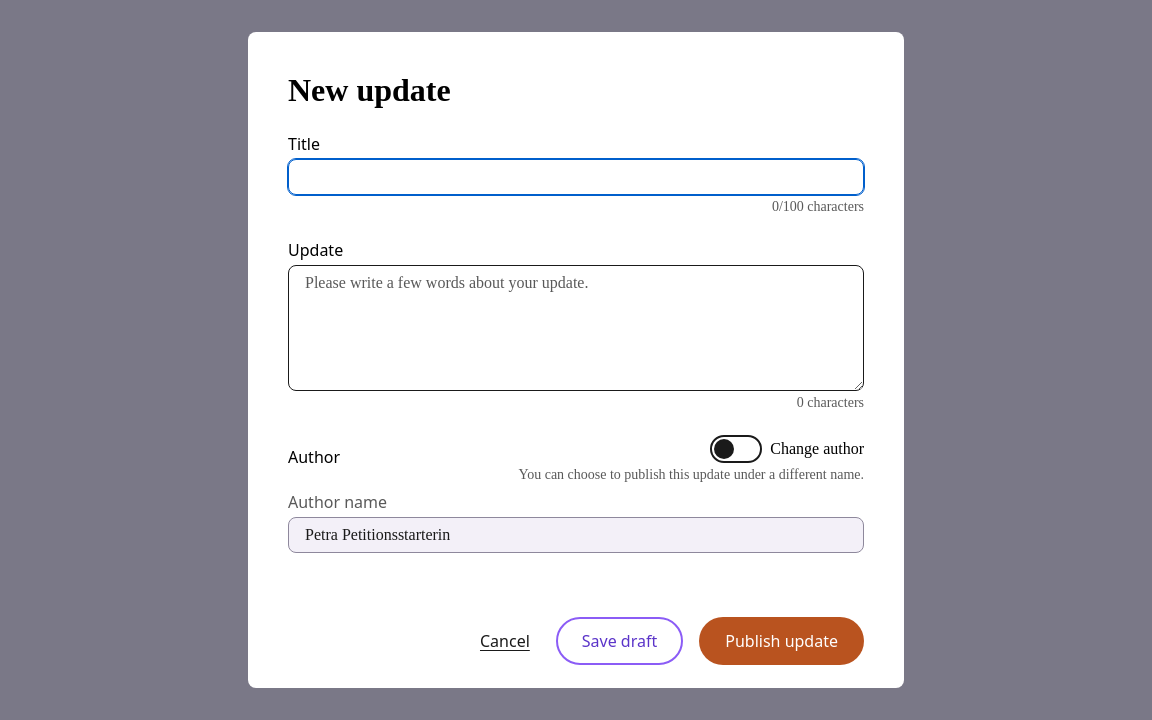
it: UpdateDialog › saves the draft to Local Storage and shows a success message
The image size is (1152, 720).
Type "Release notes" into the field labelled "Title" at {"x": 576, "y": 177}, box [288, 159, 864, 195]
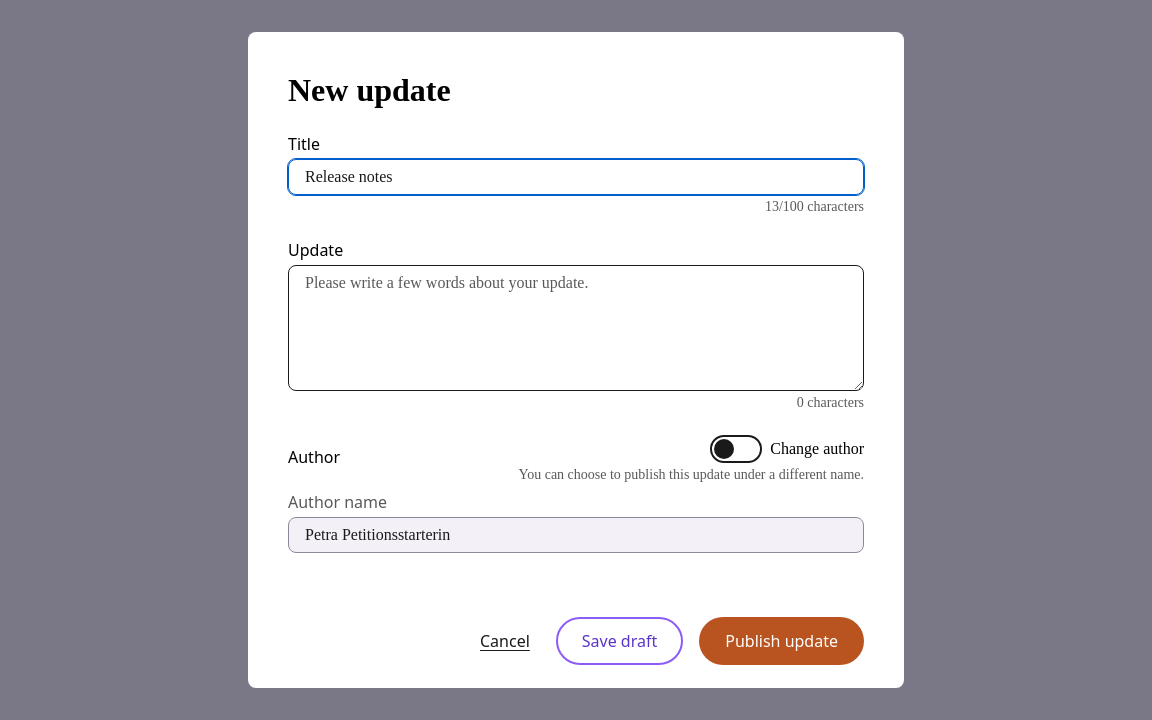
Type "Version 2 is out." into the text box labelled "Update" at {"x": 576, "y": 328}, box [288, 265, 864, 391]
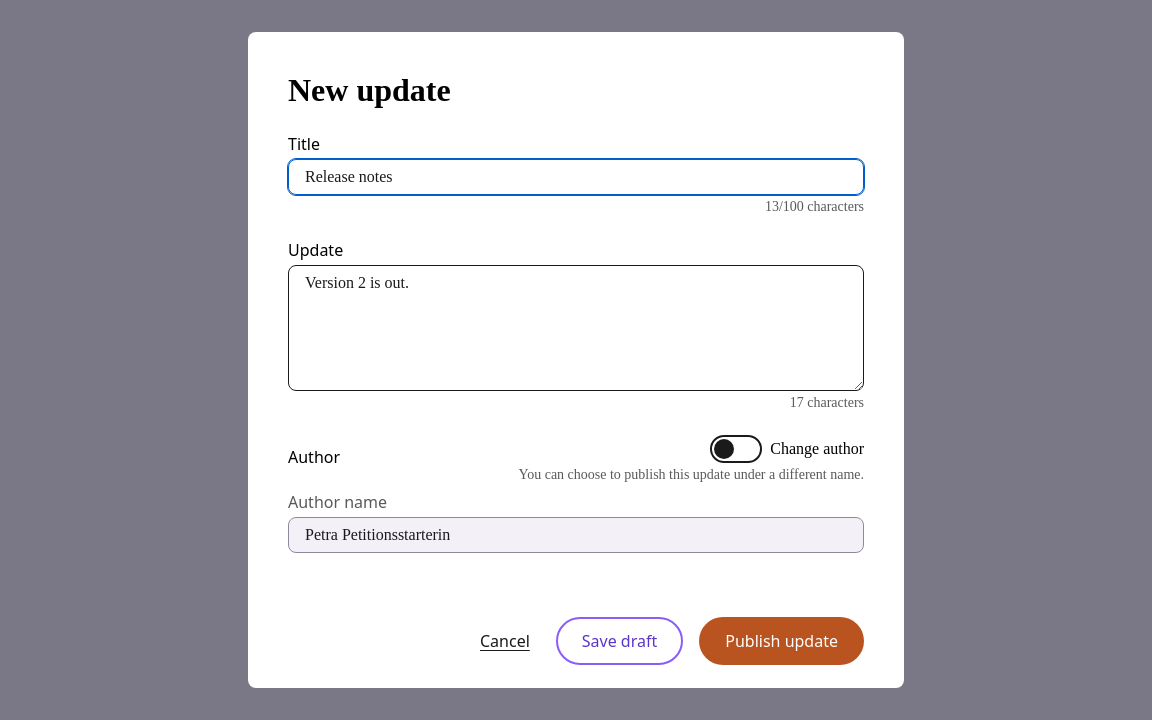
Click the switch labelled "Change author" at {"x": 736, "y": 449}, box [710, 435, 762, 463]
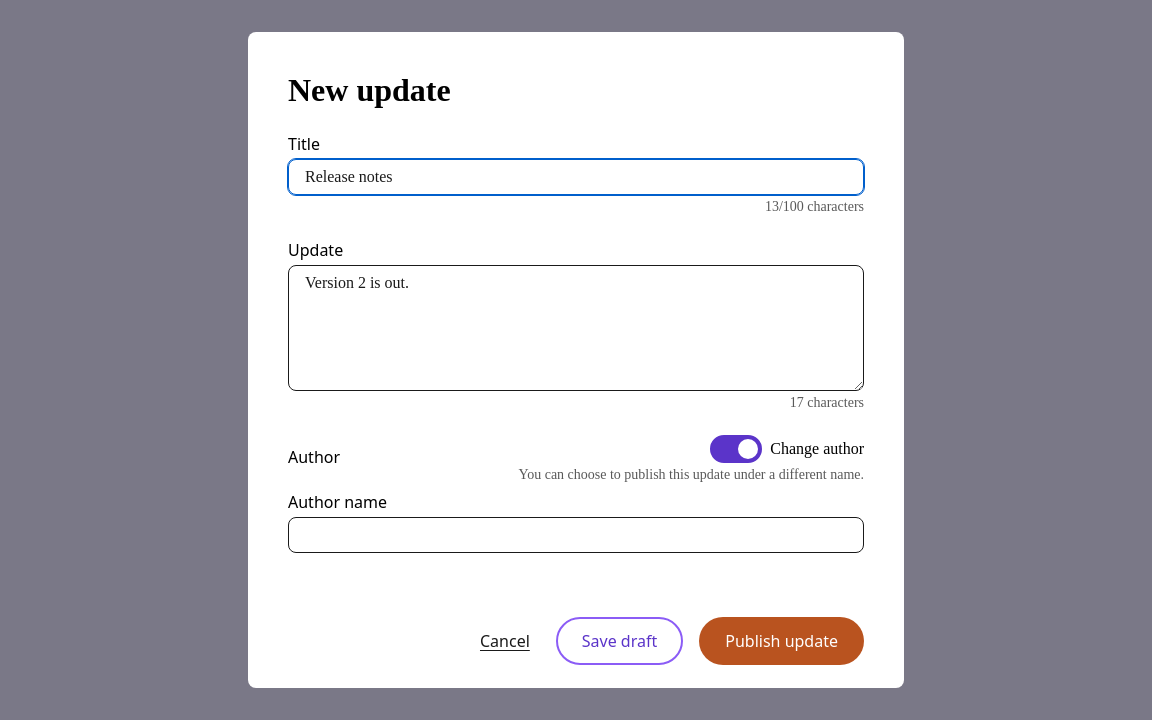
Type "Sam" into the field labelled "Author name" at {"x": 576, "y": 535}, box [288, 517, 864, 553]
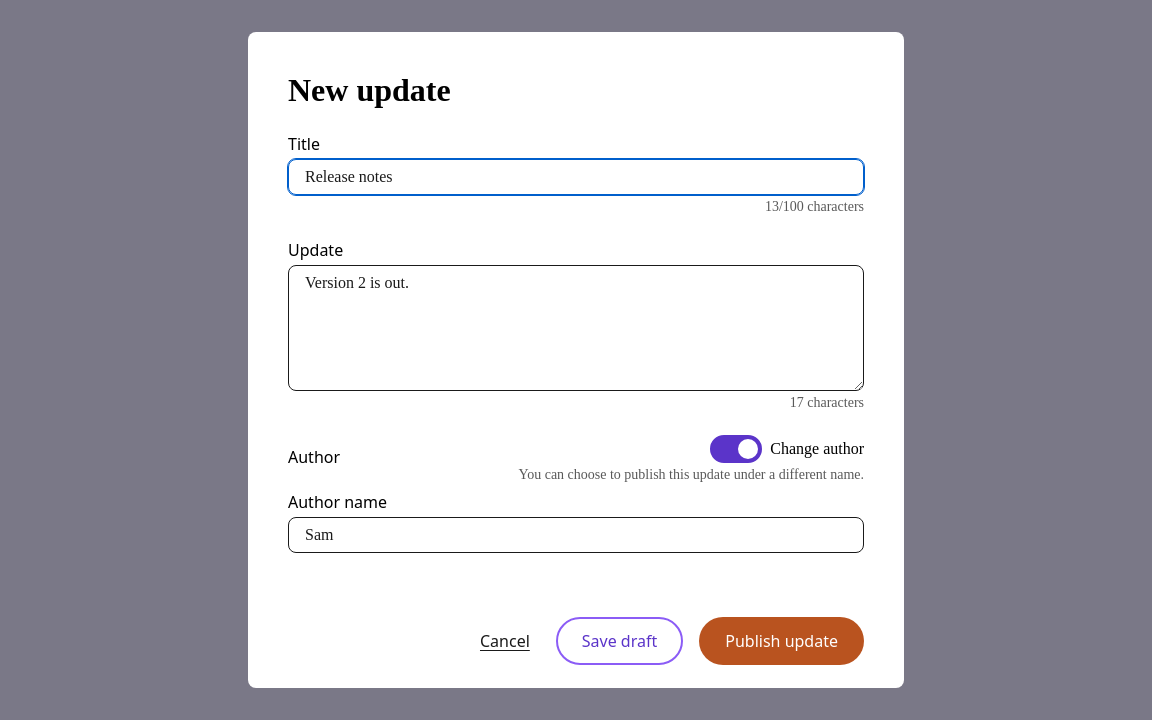
Click the button "Save draft" at {"x": 620, "y": 641}, box [556, 617, 683, 665]
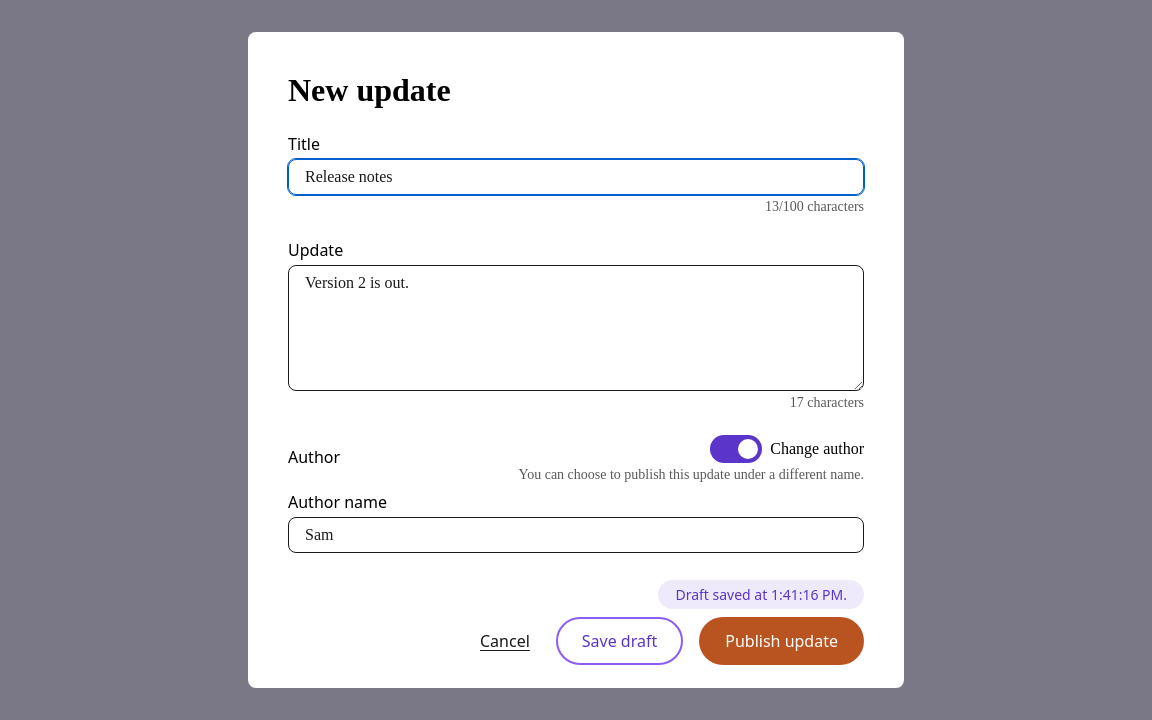
expect the message shows "Draft saved at": met, box [675, 585, 847, 604]
